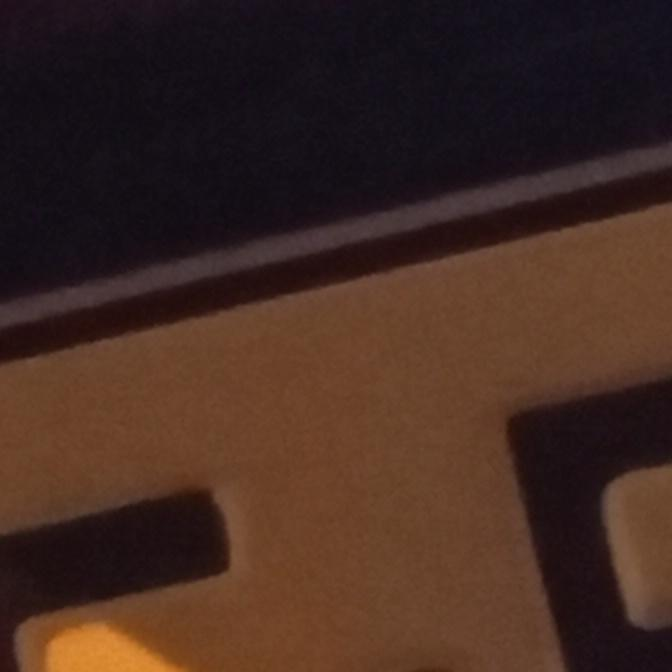plates: (0, 151, 672, 672)
